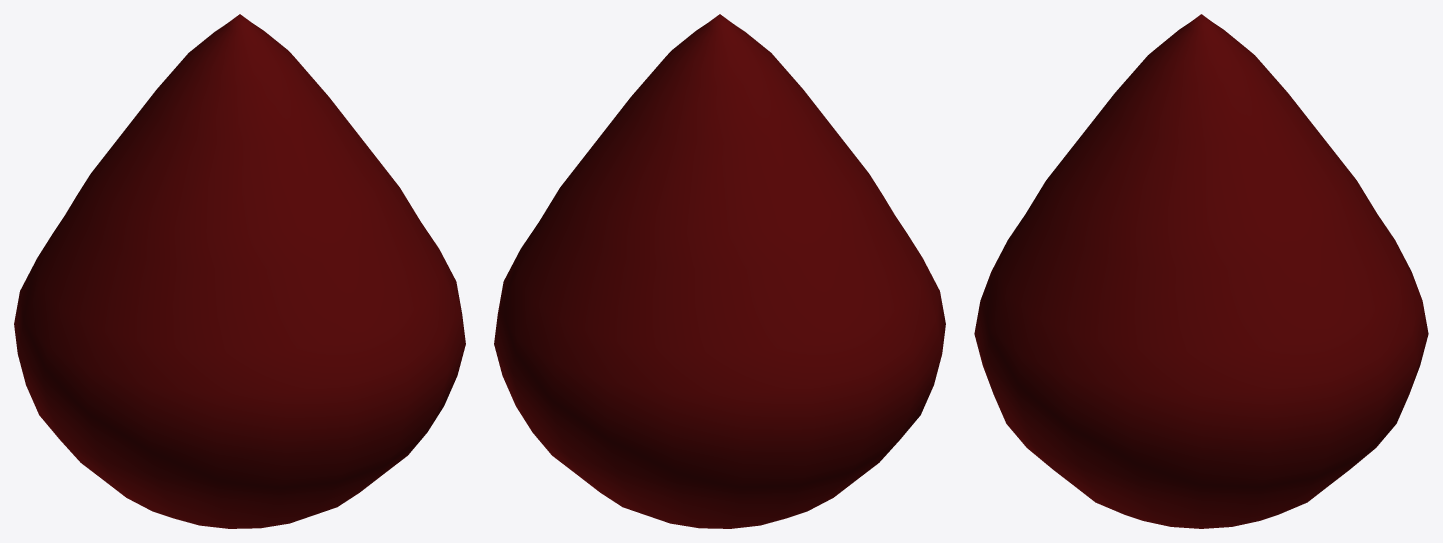
The model's file is Dot_3-5.fbx.
3 renders of one model, left to right at view 1: azimuth 30°, elevation 25°; view 2: azimuth 150°, elevation 25°; view 3: azimuth 270°, elevation 25°, orthographic.
Parts seen in each view (by area): view 1: pSphere1; view 2: pSphere1; view 3: pSphere1.
Part boxes in pixels (x1,y1,x2,y2): pSphere1: (14, 14, 465, 528); pSphere1: (494, 14, 945, 528); pSphere1: (974, 14, 1428, 528).
Size of the model in its own units: 39.51 by 47.58 by 39.51.
1 material, 1 textured.
